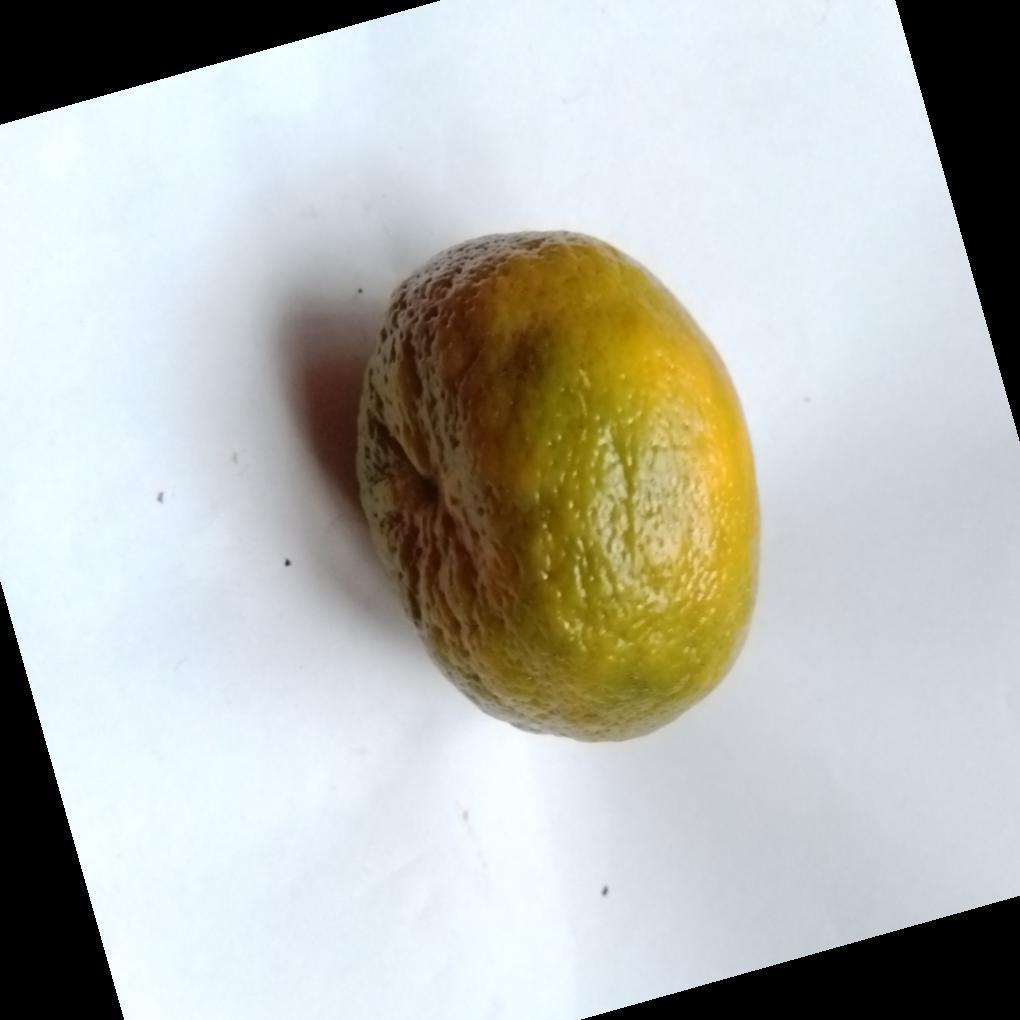FreshGuava: (352, 232, 762, 746)
